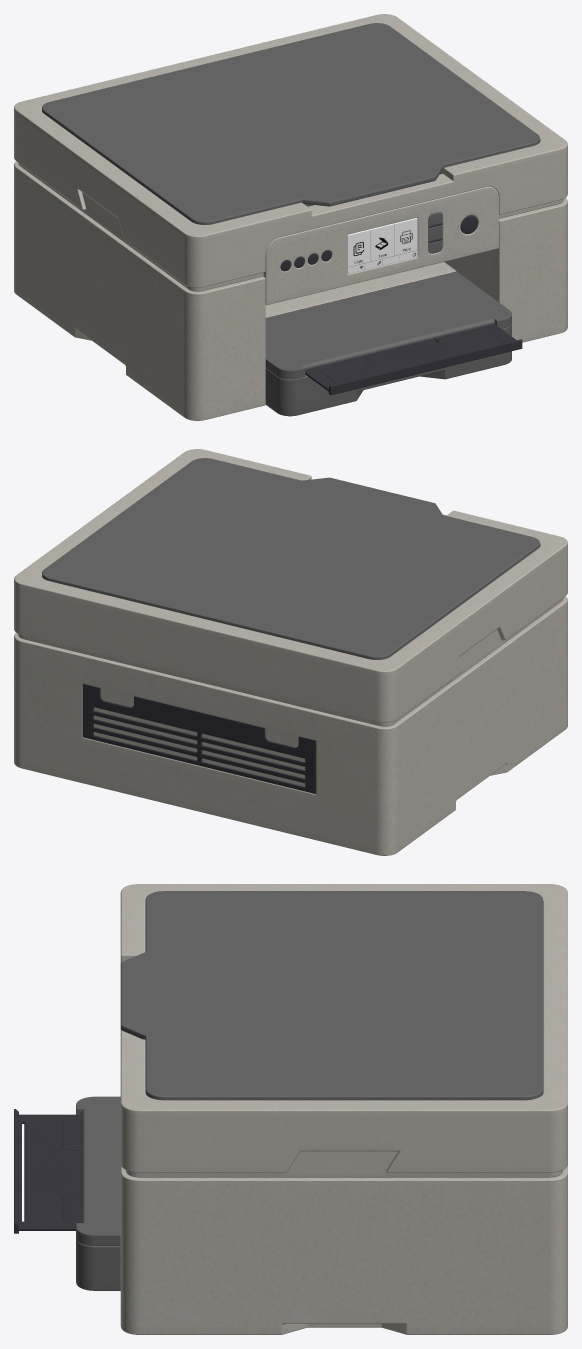
File: printer.fbx
3 views of the same model, one above another, from view 1: azimuth 30°, elevation 25°; view 2: azimuth 150°, elevation 25°; view 3: azimuth 270°, elevation 25° (orthographic). The views are drawn at different scales.
Visible parts, largest first — view 1: classic_printer_01_cover_001_mesh, classic_printer_01_frame_002_mesh, classic_printer_01_frame_001_mesh, classic_printer_01_lower_frame_002_mesh, classic_printer_01_frame_003_mesh, classic_printer_01_lower_frame_001_mesh, classic_printer_01_slide_001_mesh, classic_printer_01_screen_mesh, classic_printer_01_slide_002_mesh; view 2: classic_printer_01_frame_002_mesh, classic_printer_01_cover_001_mesh, classic_printer_01_frame_001_mesh, classic_printer_01_vent_mesh; view 3: classic_printer_01_cover_001_mesh, classic_printer_01_frame_002_mesh, classic_printer_01_frame_001_mesh, classic_printer_01_lower_frame_002_mesh, classic_printer_01_slide_002_mesh, classic_printer_01_slide_001_mesh, classic_printer_01_lower_frame_001_mesh.
Boxes of the visible parts, bbox=[...] form: classic_printer_01_cover_001_mesh: bbox=[42, 23, 539, 224]; classic_printer_01_frame_002_mesh: bbox=[14, 161, 567, 420]; classic_printer_01_frame_001_mesh: bbox=[14, 14, 567, 291]; classic_printer_01_lower_frame_002_mesh: bbox=[265, 271, 511, 379]; classic_printer_01_frame_003_mesh: bbox=[263, 186, 498, 304]; classic_printer_01_lower_frame_001_mesh: bbox=[265, 324, 511, 416]; classic_printer_01_slide_001_mesh: bbox=[305, 324, 522, 395]; classic_printer_01_screen_mesh: bbox=[347, 217, 417, 274]; classic_printer_01_slide_002_mesh: bbox=[323, 333, 504, 383]; classic_printer_01_frame_002_mesh: bbox=[14, 596, 567, 855]; classic_printer_01_cover_001_mesh: bbox=[42, 458, 539, 659]; classic_printer_01_frame_001_mesh: bbox=[14, 449, 567, 726]; classic_printer_01_vent_mesh: bbox=[82, 683, 316, 793]; classic_printer_01_cover_001_mesh: bbox=[120, 891, 542, 1100]; classic_printer_01_frame_002_mesh: bbox=[120, 1164, 567, 1334]; classic_printer_01_frame_001_mesh: bbox=[120, 884, 567, 1177]; classic_printer_01_lower_frame_002_mesh: bbox=[76, 1096, 120, 1245]; classic_printer_01_slide_002_mesh: bbox=[24, 1121, 70, 1221]; classic_printer_01_slide_001_mesh: bbox=[14, 1109, 80, 1233]; classic_printer_01_lower_frame_001_mesh: bbox=[76, 1238, 120, 1290].
Bounding box in the file's own units: 43.2 × 20.3 × 44.6.
Materials: 5 (3 with a texture image).
